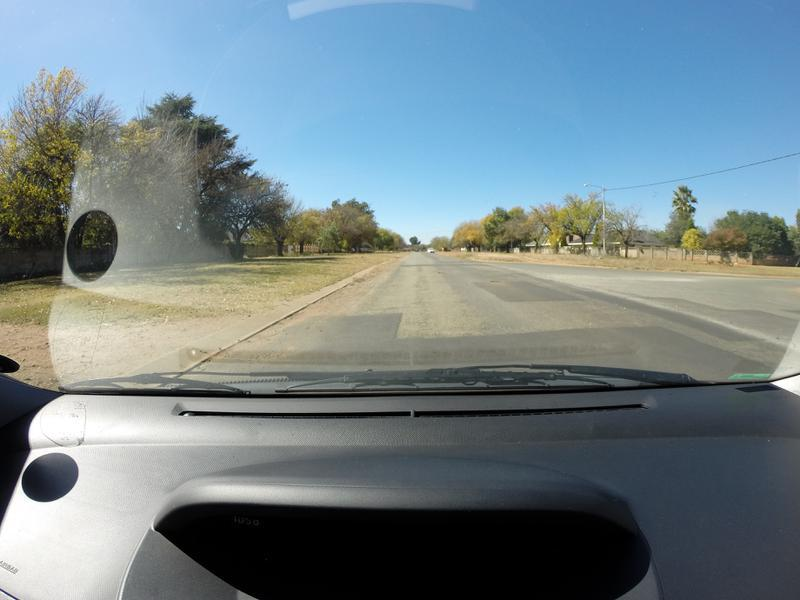pothole: (490, 276, 503, 284)
